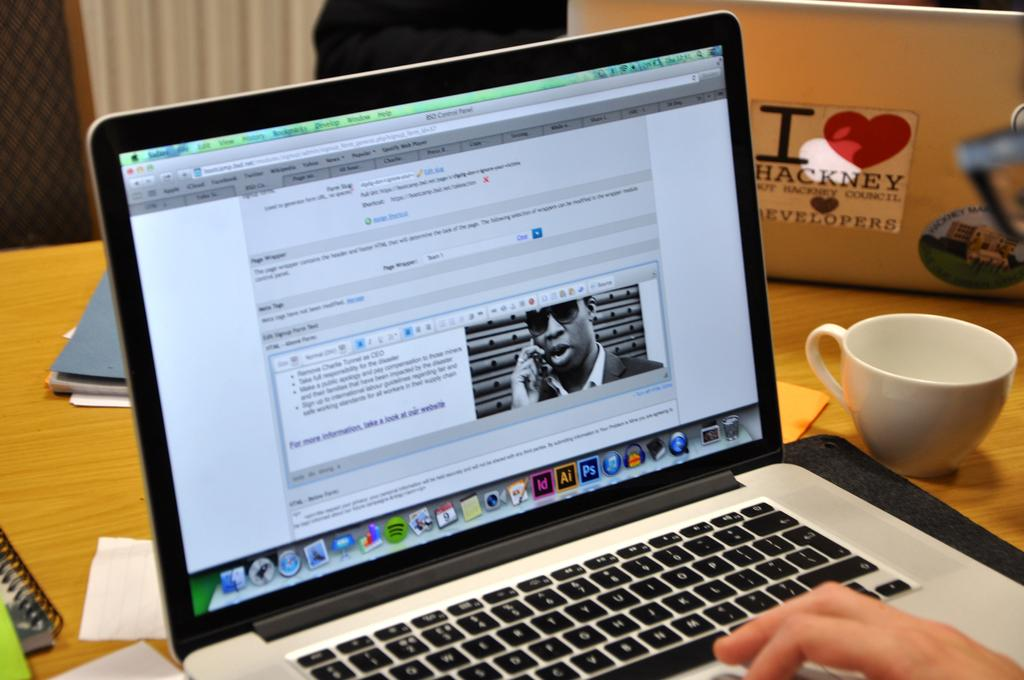Computer-keyboard: (292, 497, 916, 679)
Laptop: (81, 41, 970, 680)
